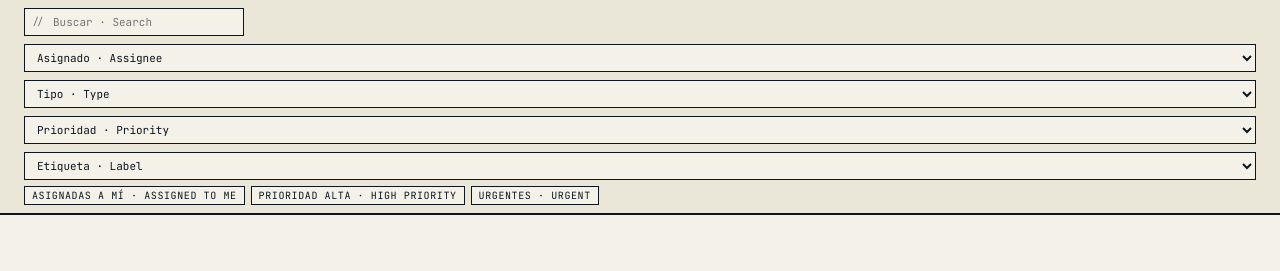
Scenario: FilterBar — saved views › saving with Enter works and Escape cancels the save input
Select "epic" in the dropdown named "Filtrar por tipo · Filter by type" at (640, 94), box [24,80,1256,108]
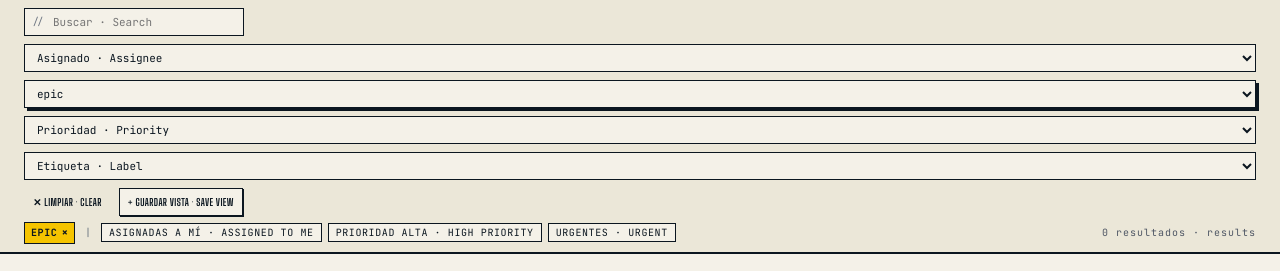
# Open save input, then Escape to cancel.
Click the button "+ Guardar vista · Save view" at (181, 202), box [119,188,243,216]
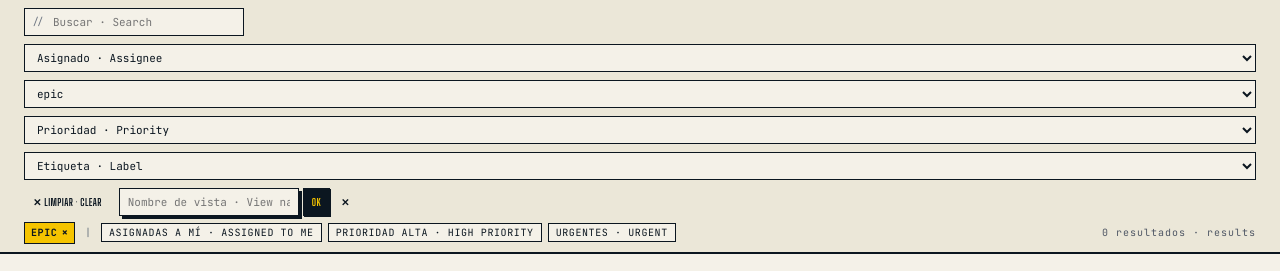
Press Escape
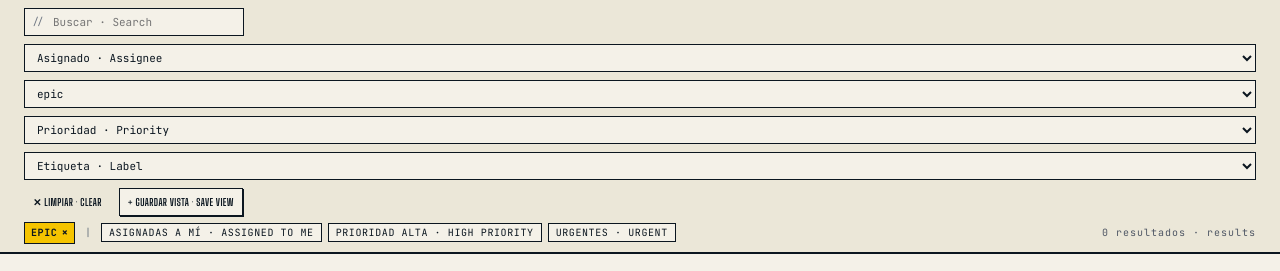
Check: the field with placeholder "Nombre de vista · View name" is not shown
# Reopen, type a name and press Enter to save.
Click the button "+ Guardar vista · Save view" at (181, 202), box [119,188,243,216]
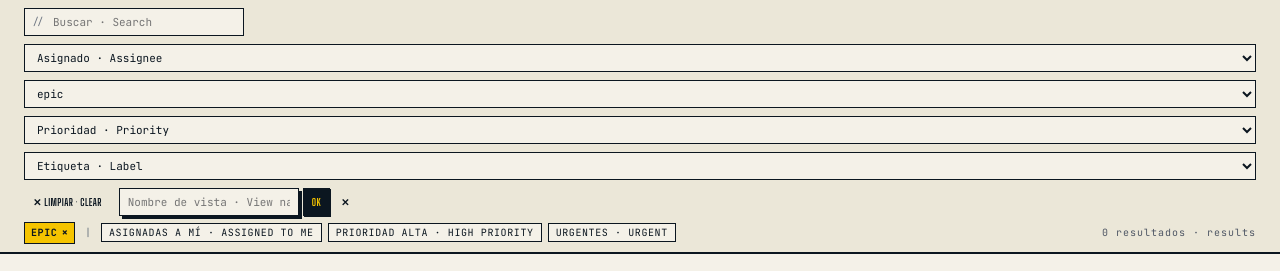
Type "Epic view" into the field with placeholder "Nombre de vista · View name" at (209, 202), box [119,188,299,216]
Then press Enter
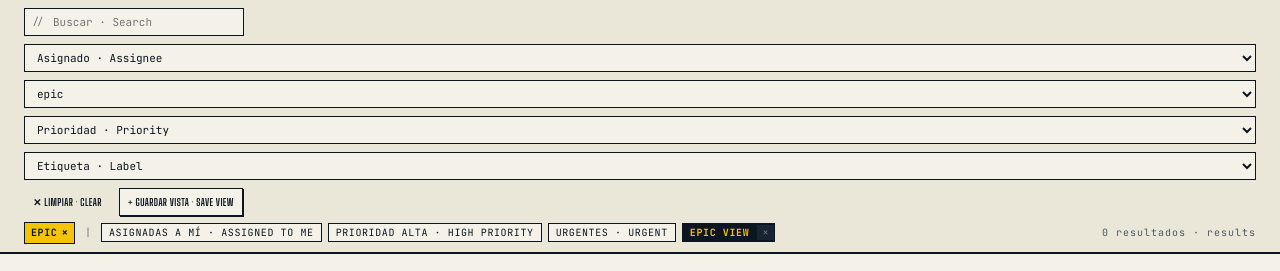
Check: the button "Epic view" is shown, box [683,224,756,241]
